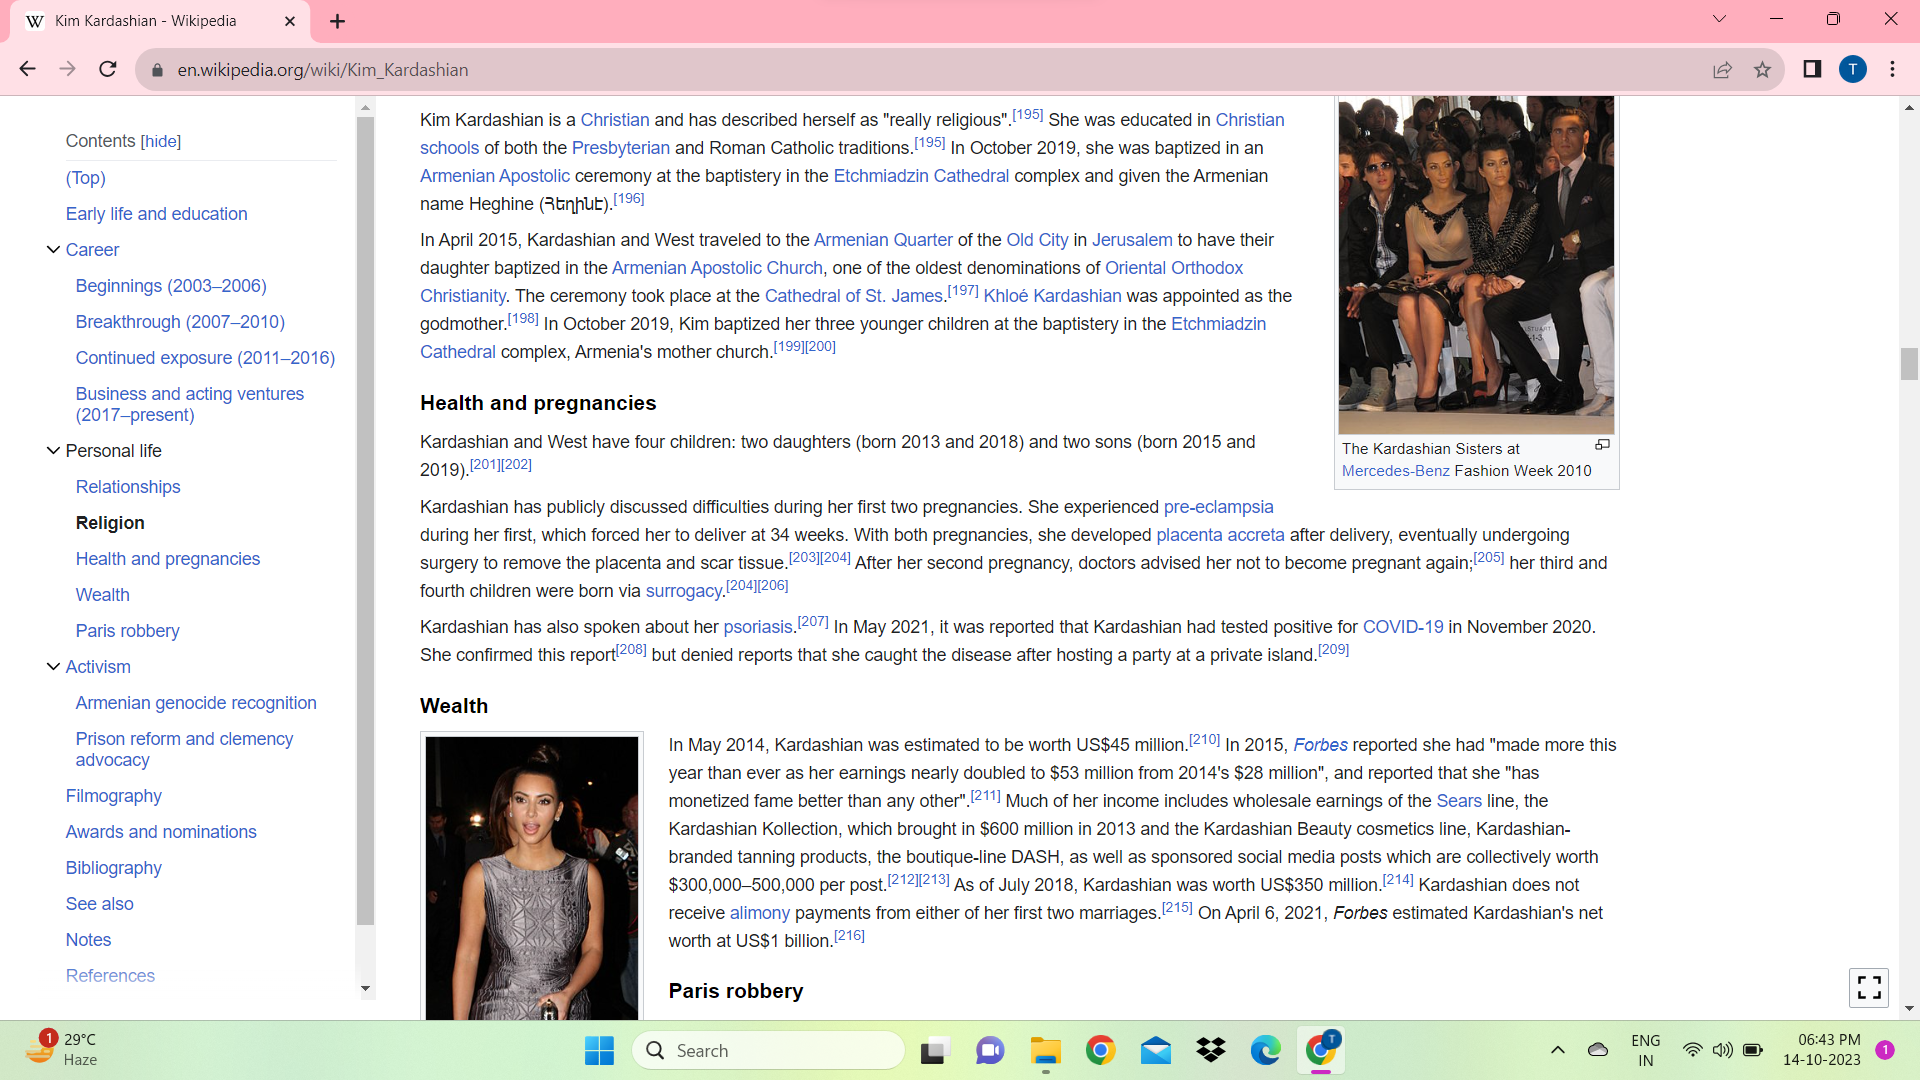Image: (1333, 98, 1631, 444), (411, 727, 647, 1025)
Paragraph: (655, 729, 1629, 956), (411, 496, 1611, 608), (410, 224, 1309, 364), (400, 104, 1279, 216), (423, 615, 1611, 678), (407, 425, 1286, 485), (58, 371, 326, 434), (69, 340, 340, 373), (71, 732, 299, 770), (410, 388, 679, 418), (54, 815, 257, 848), (75, 272, 274, 305), (74, 692, 316, 716), (75, 309, 291, 335), (654, 971, 818, 1005), (65, 543, 272, 570), (57, 200, 258, 227), (50, 119, 199, 152), (57, 852, 170, 885), (386, 686, 506, 716), (65, 472, 190, 501), (67, 620, 187, 647), (58, 779, 170, 807), (65, 435, 162, 465), (51, 889, 152, 910), (57, 162, 125, 190), (61, 513, 153, 533), (67, 583, 145, 604), (54, 927, 125, 945), (67, 237, 119, 261), (62, 661, 145, 675)
